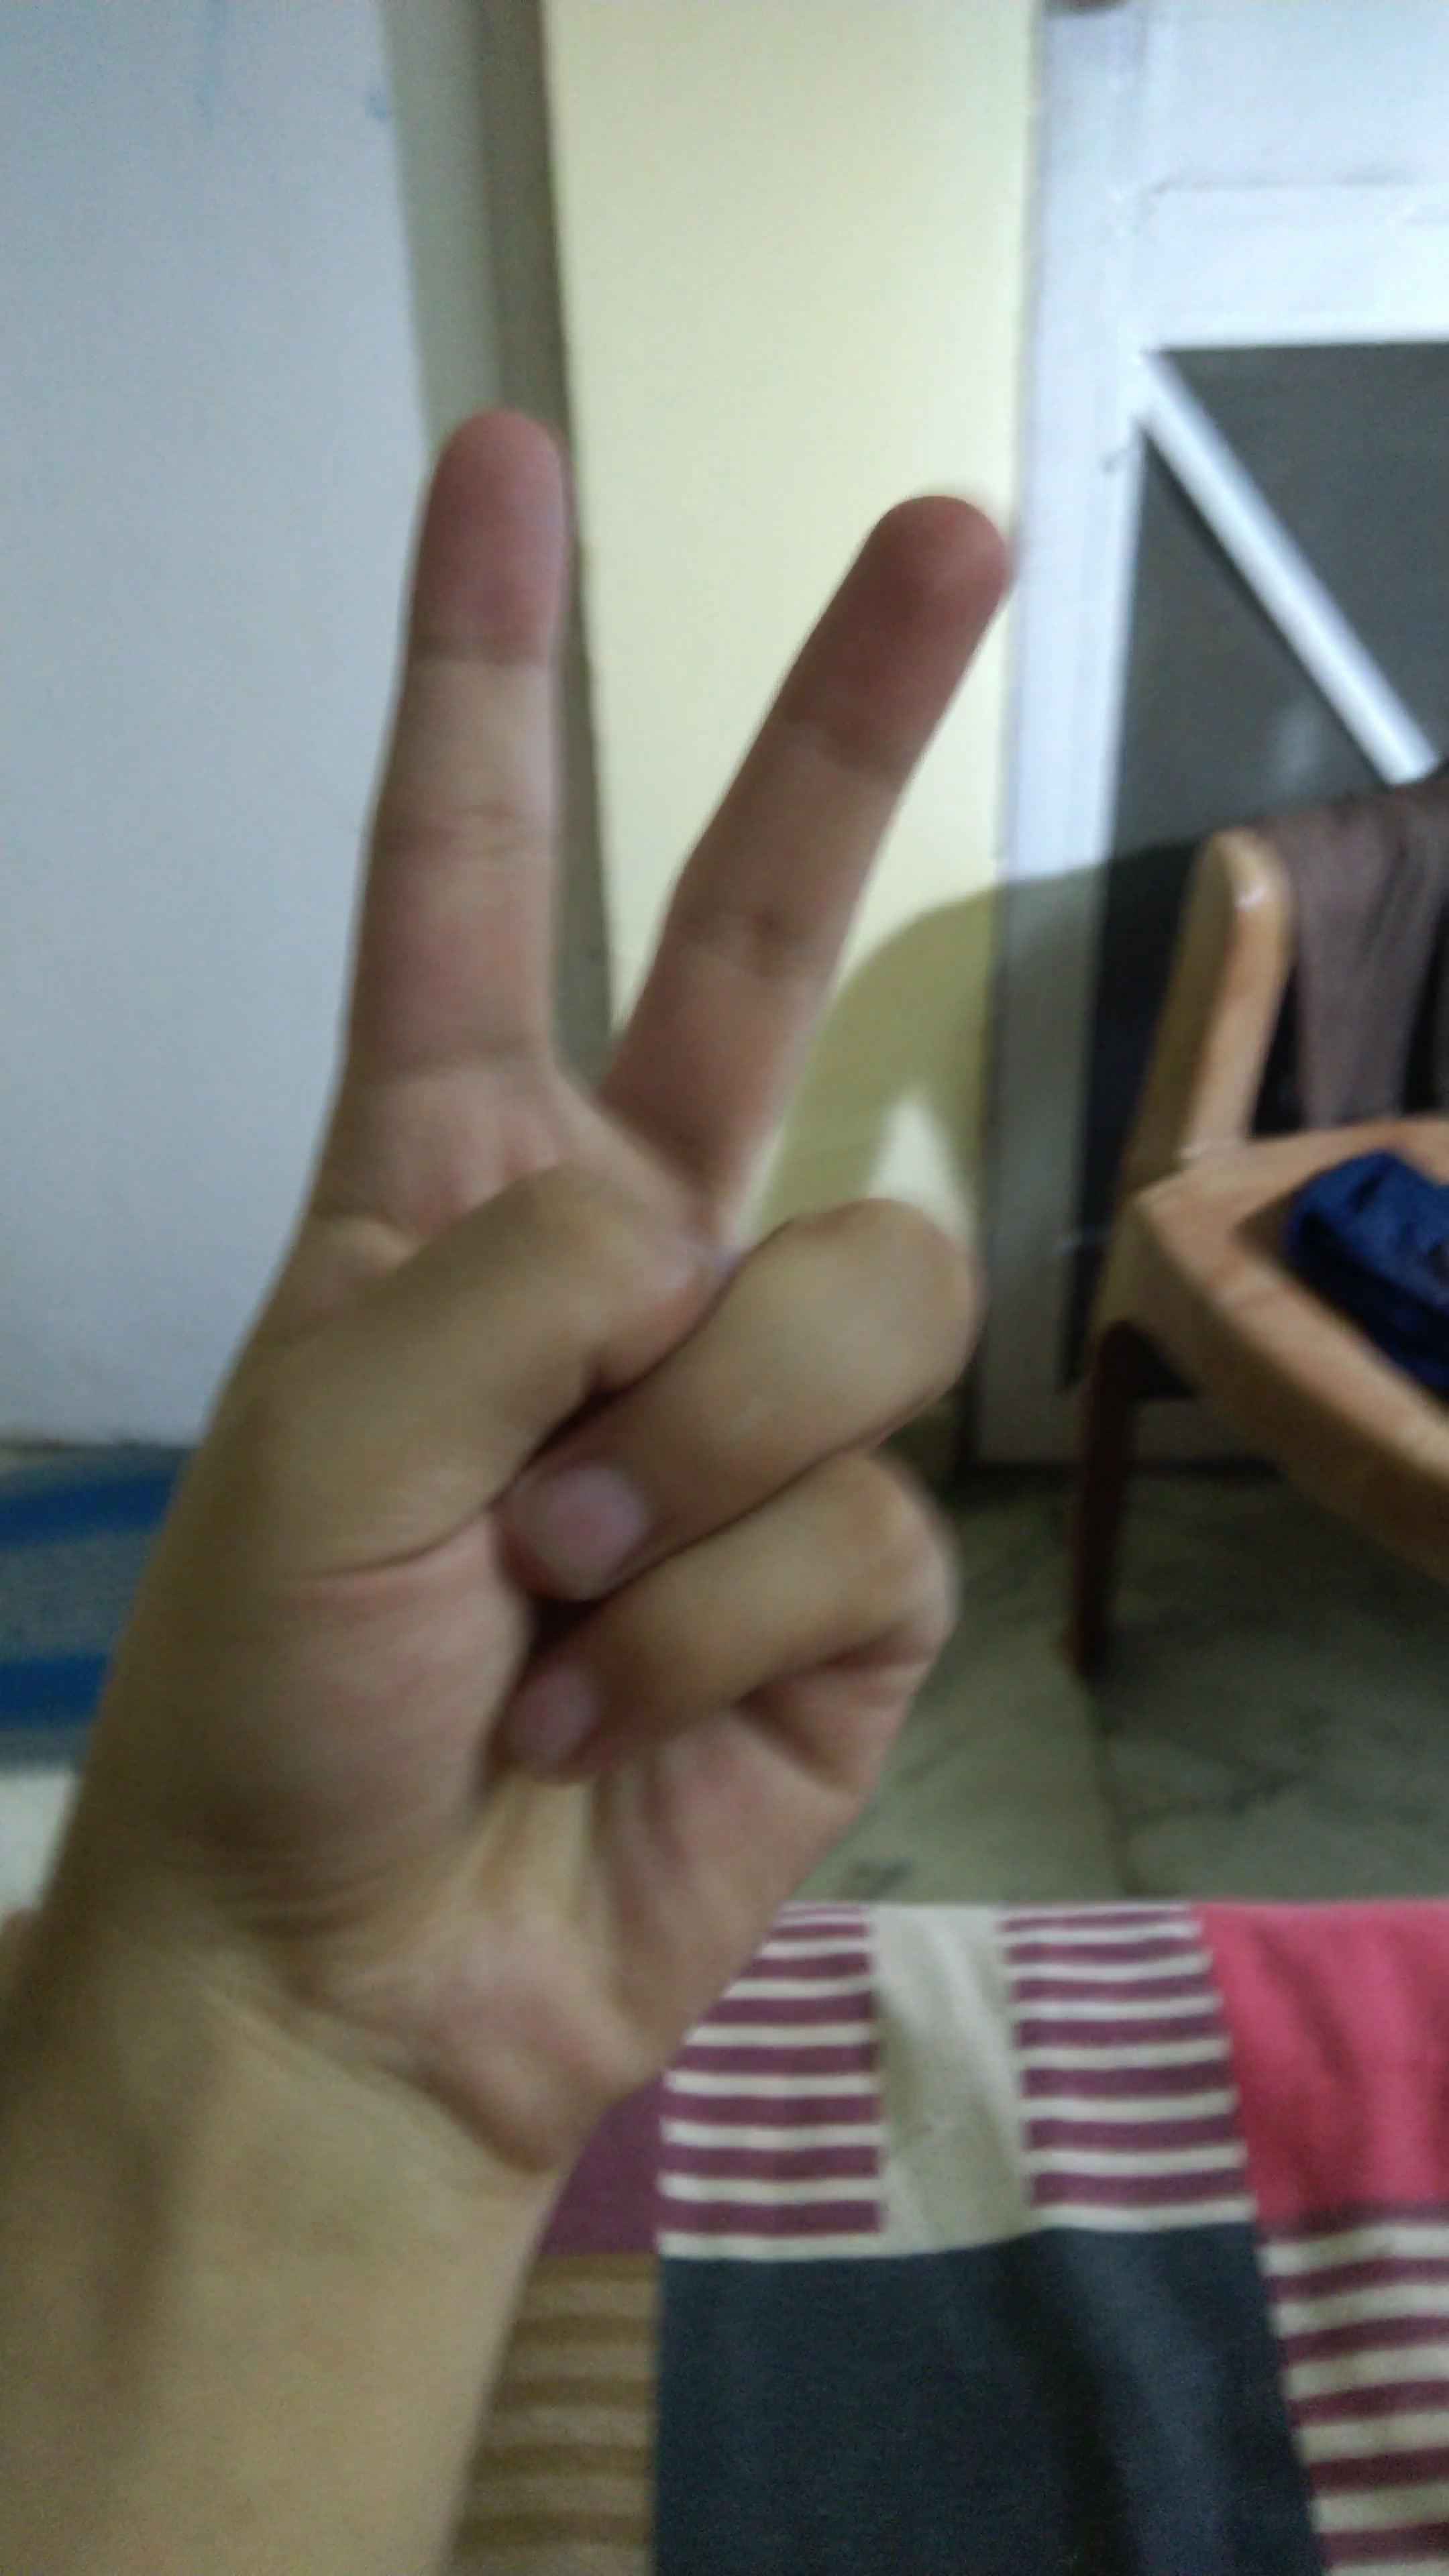hand: (74, 364, 1187, 2157)
